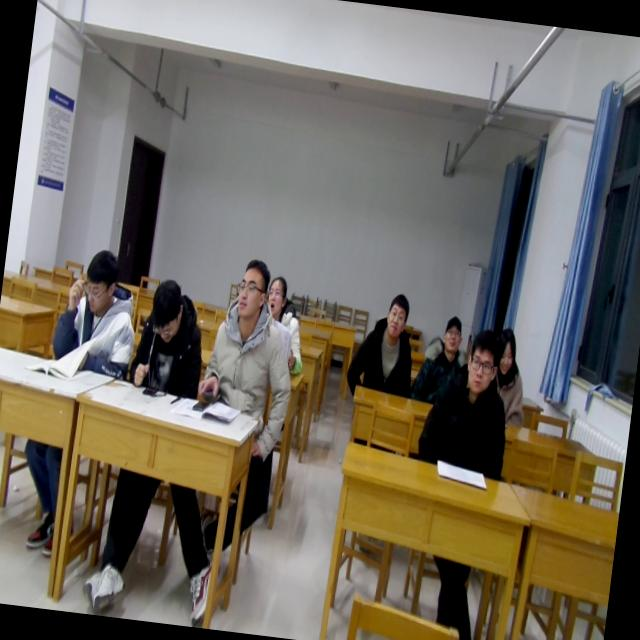down: (142, 273, 188, 348), (74, 246, 122, 314), (492, 324, 520, 377)
lookup: (459, 320, 503, 400), (230, 247, 274, 321), (382, 287, 412, 342), (261, 266, 291, 317), (434, 310, 466, 356)
sit: (193, 252, 307, 418), (414, 322, 520, 478), (46, 242, 145, 380), (128, 276, 212, 398), (342, 286, 422, 401), (408, 310, 476, 406), (257, 270, 315, 378), (483, 323, 535, 427)
